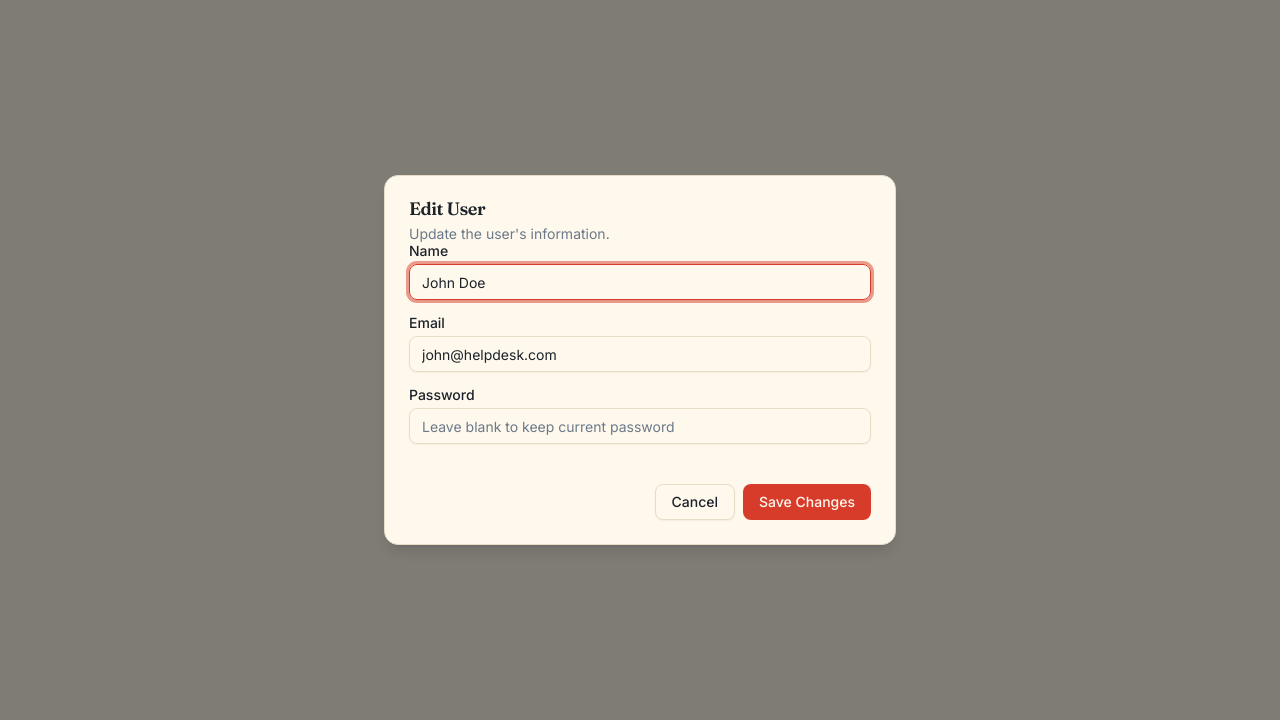
EditUserDialog › shows validation error for invalid email
Replace the text in the field labelled "Email" with "not-an-email" at (640, 354), box [409, 336, 871, 372]
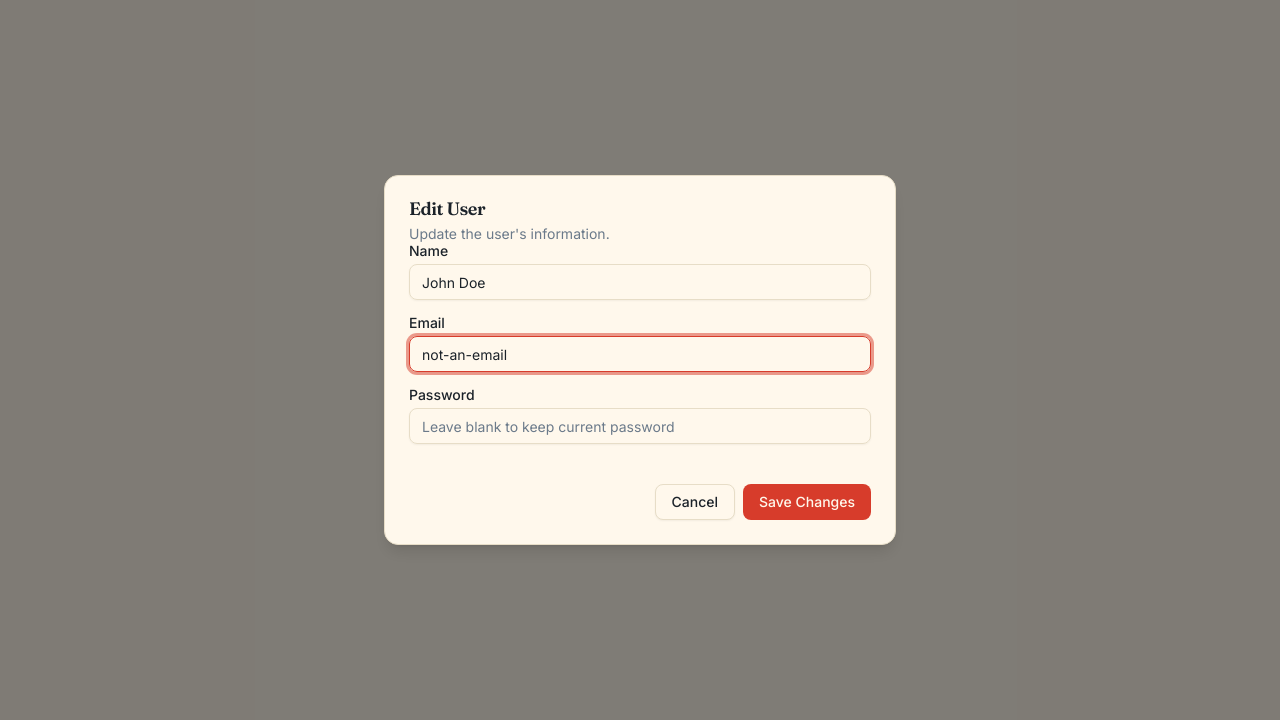
Press Tab
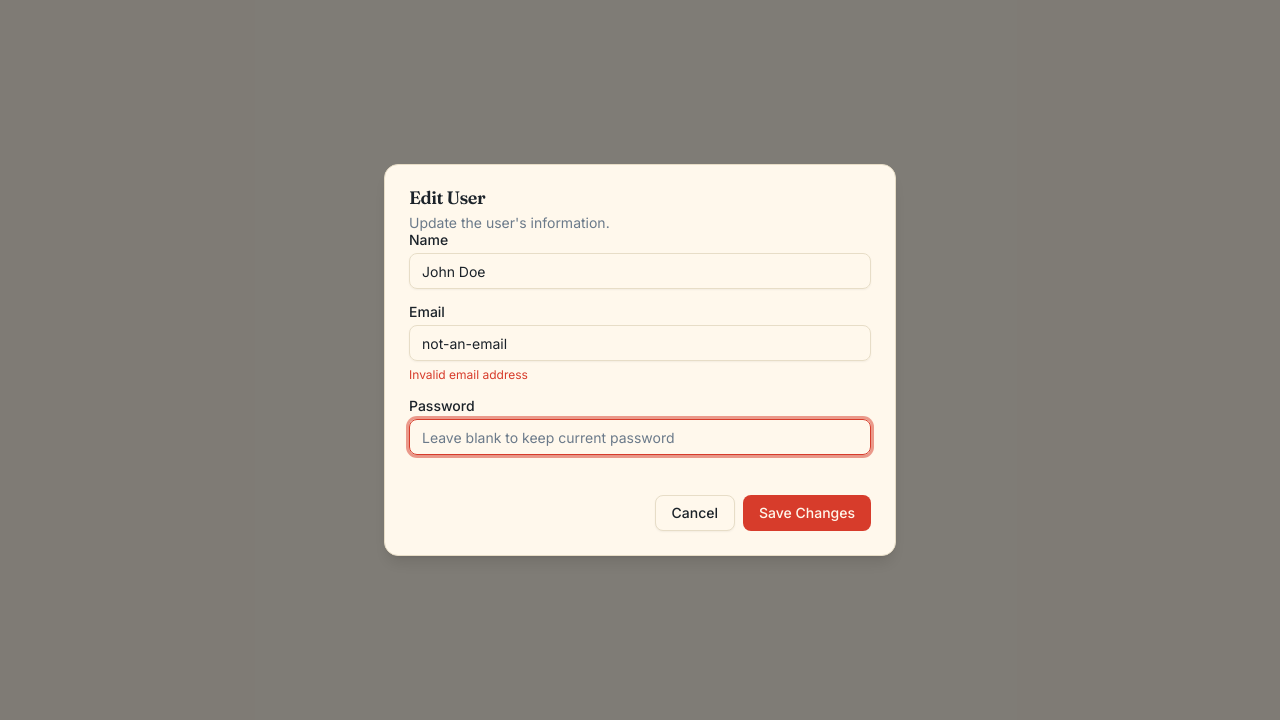
Check: the text "Invalid email address" is shown, box [409, 367, 528, 382]
